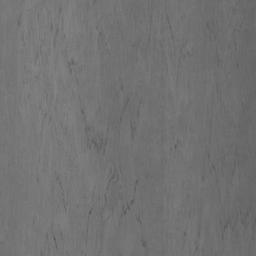Silk spot: (0, 0, 256, 256), (132, 232, 164, 256)
